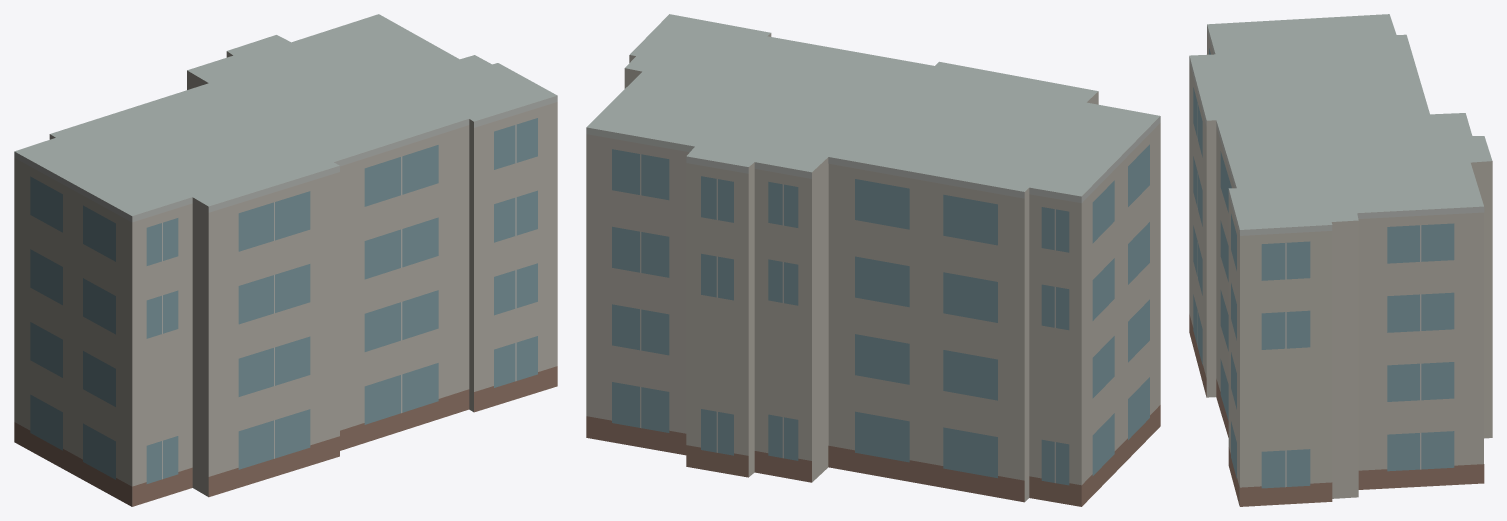
The model's file is survey-upis-32612790.glb.
3 views of the same model, side by side, from view 1: azimuth 30°, elevation 25°; view 2: azimuth 150°, elevation 25°; view 3: azimuth 270°, elevation 25° (orthographic). The views are drawn at different scales.
Visible parts, largest first — view 1: survey-upis-32612790.tmp; view 2: survey-upis-32612790.tmp; view 3: survey-upis-32612790.tmp.
Part boxes in pixels (x1,y1,x2,y2): survey-upis-32612790.tmp: (14,14,557,506); survey-upis-32612790.tmp: (586,14,1160,506); survey-upis-32612790.tmp: (1189,14,1492,506).
Size of the model in its own units: 18.94 by 11.31 by 11.23.
